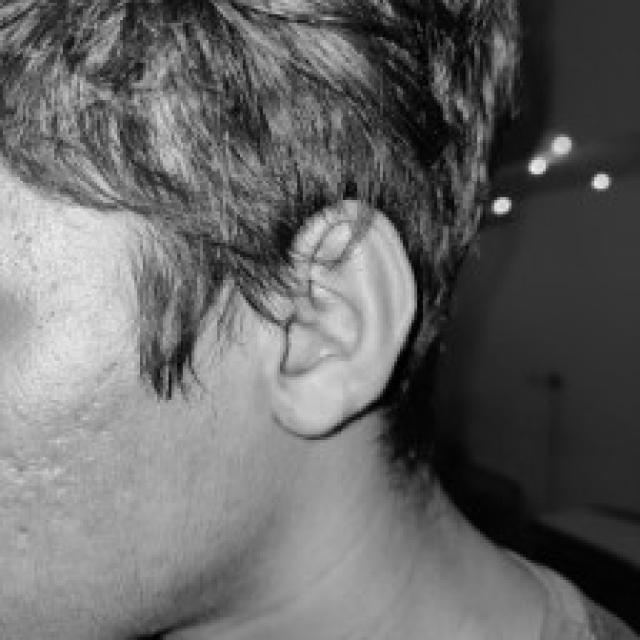ear: (271, 200, 411, 431)
